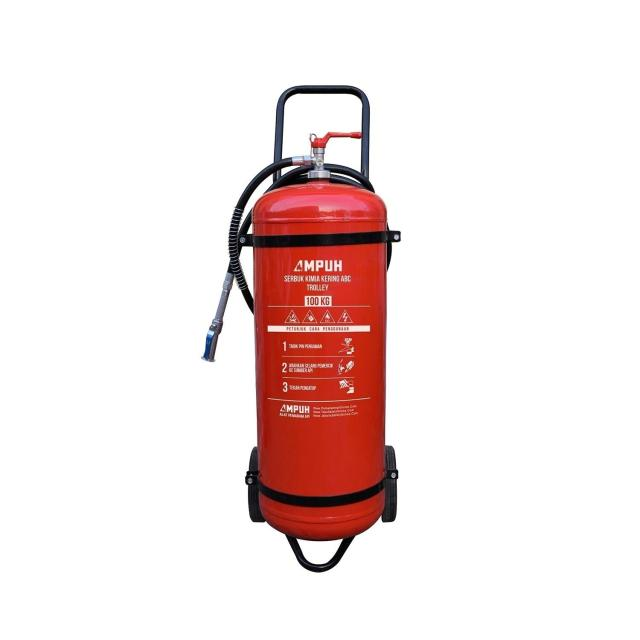fire_extinguisher: (197, 83, 390, 544)
